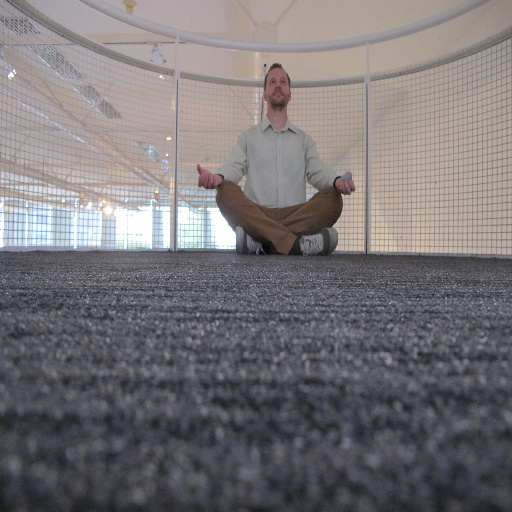hand: (323, 154, 357, 209), (195, 161, 224, 189)
